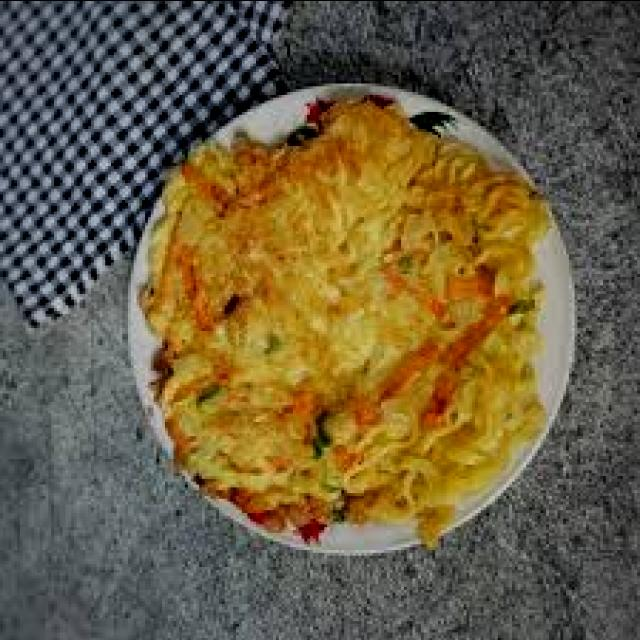telur dadar: (142, 97, 552, 555)
